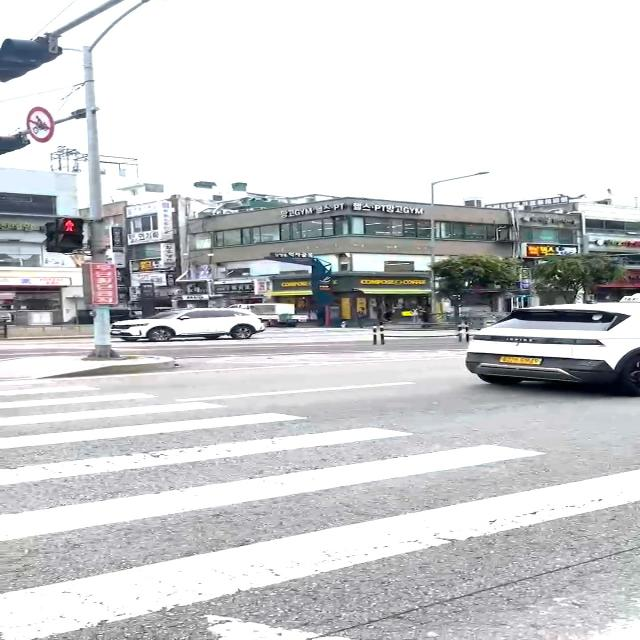building: (148, 201, 583, 273)
car: (464, 299, 639, 397), (108, 306, 266, 342)
